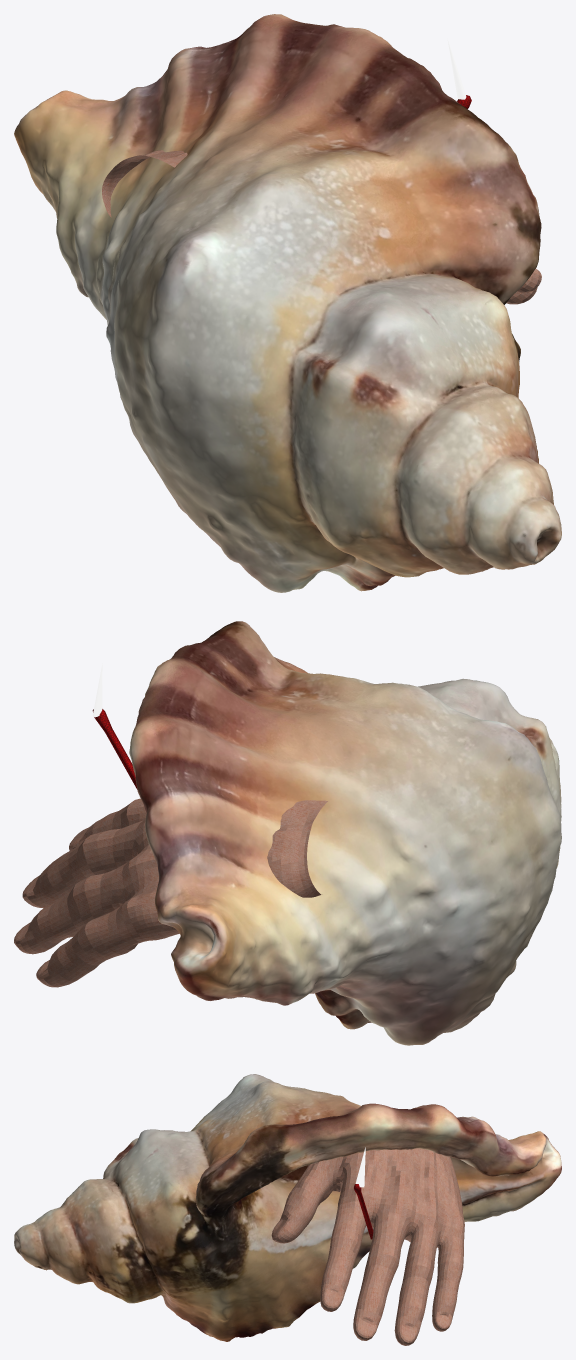
File: Manofestation.glb
The picture shows the model from 3 angles, top to bottom: view 1: azimuth 30°, elevation 25°; view 2: azimuth 150°, elevation 25°; view 3: azimuth 270°, elevation 25°; orthographic projection. The views are drawn at different scales.
Parts seen in each view (by area): view 1: seashell, Hand; view 2: seashell, Hand, match; view 3: seashell, Hand.
Part boxes in pixels (x1,y1,x2,y2): seashell: (14,14,561,592); Hand: (102,150,541,304); seashell: (129,621,561,1045); Hand: (14,798,327,987); match: (92,709,137,789); seashell: (14,1074,561,1341); Hand: (271,1148,464,1345).
Bounding box in the file's own units: 1.15 × 1 × 1.84.
Materials: 4 (3 with a texture image).
